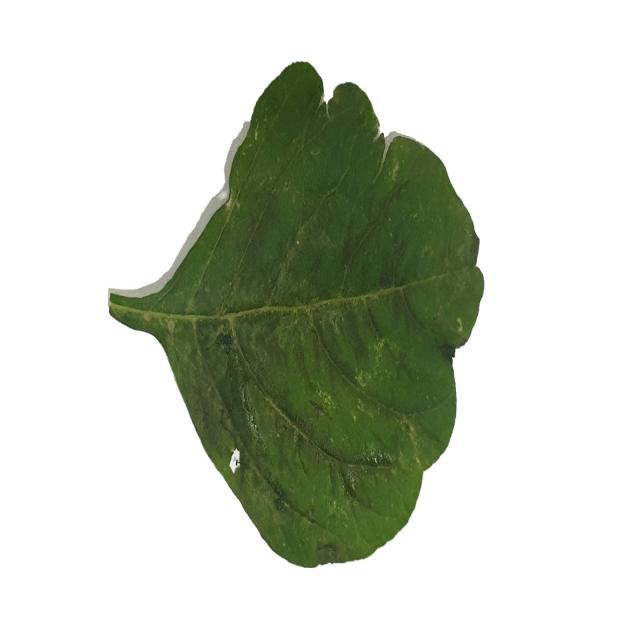Medicinal-Arive Dantu: (111, 62, 485, 568)
